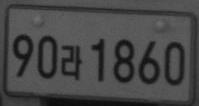0: (36, 34, 58, 79), (164, 40, 185, 86)
1: (89, 38, 110, 81)
6: (137, 41, 160, 85)
8: (112, 38, 136, 83)
9: (11, 33, 34, 77)
라: (60, 44, 82, 81)
